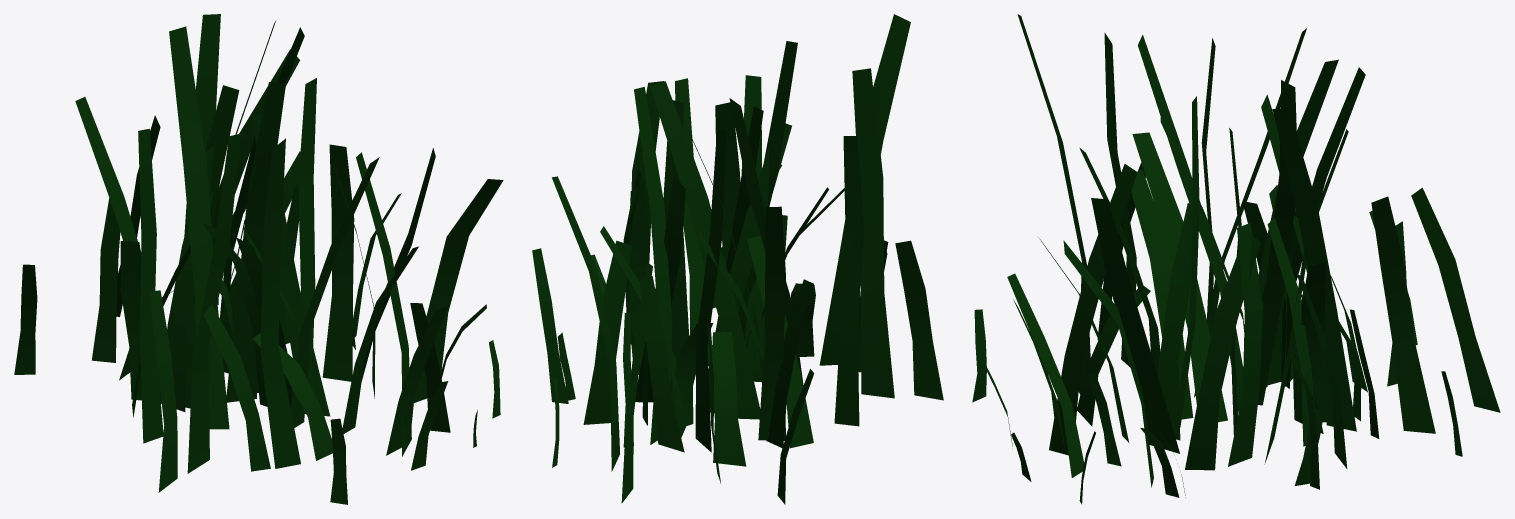
The model's file is Grass_01.fbx.
3 renders of one model, left to right at view 1: azimuth 30°, elevation 25°; view 2: azimuth 150°, elevation 25°; view 3: azimuth 270°, elevation 25°, orthographic. The views are drawn at different scales.
Parts seen in each view (by area): view 1: grass_01_LOD0; view 2: grass_01_LOD0; view 3: grass_01_LOD0.
Boxes of the visible parts, x1=… form: grass_01_LOD0: x1=14, y1=14, x2=503, y2=504; grass_01_LOD0: x1=532, y1=14, x2=943, y2=504; grass_01_LOD0: x1=972, y1=14, x2=1500, y2=504.
Size of what is drawn, in the model's own units: 40.97 by 40.55 by 51.93.
